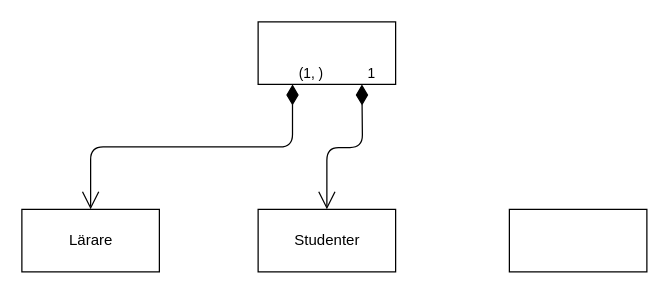
The diagram is 669 pixels wide and 294 high, and some of its shapes have lost their labels. Each missing label, with the box of its shape:
Klassrum: (257, 21, 396, 84)
Object: (508, 208, 647, 272)
